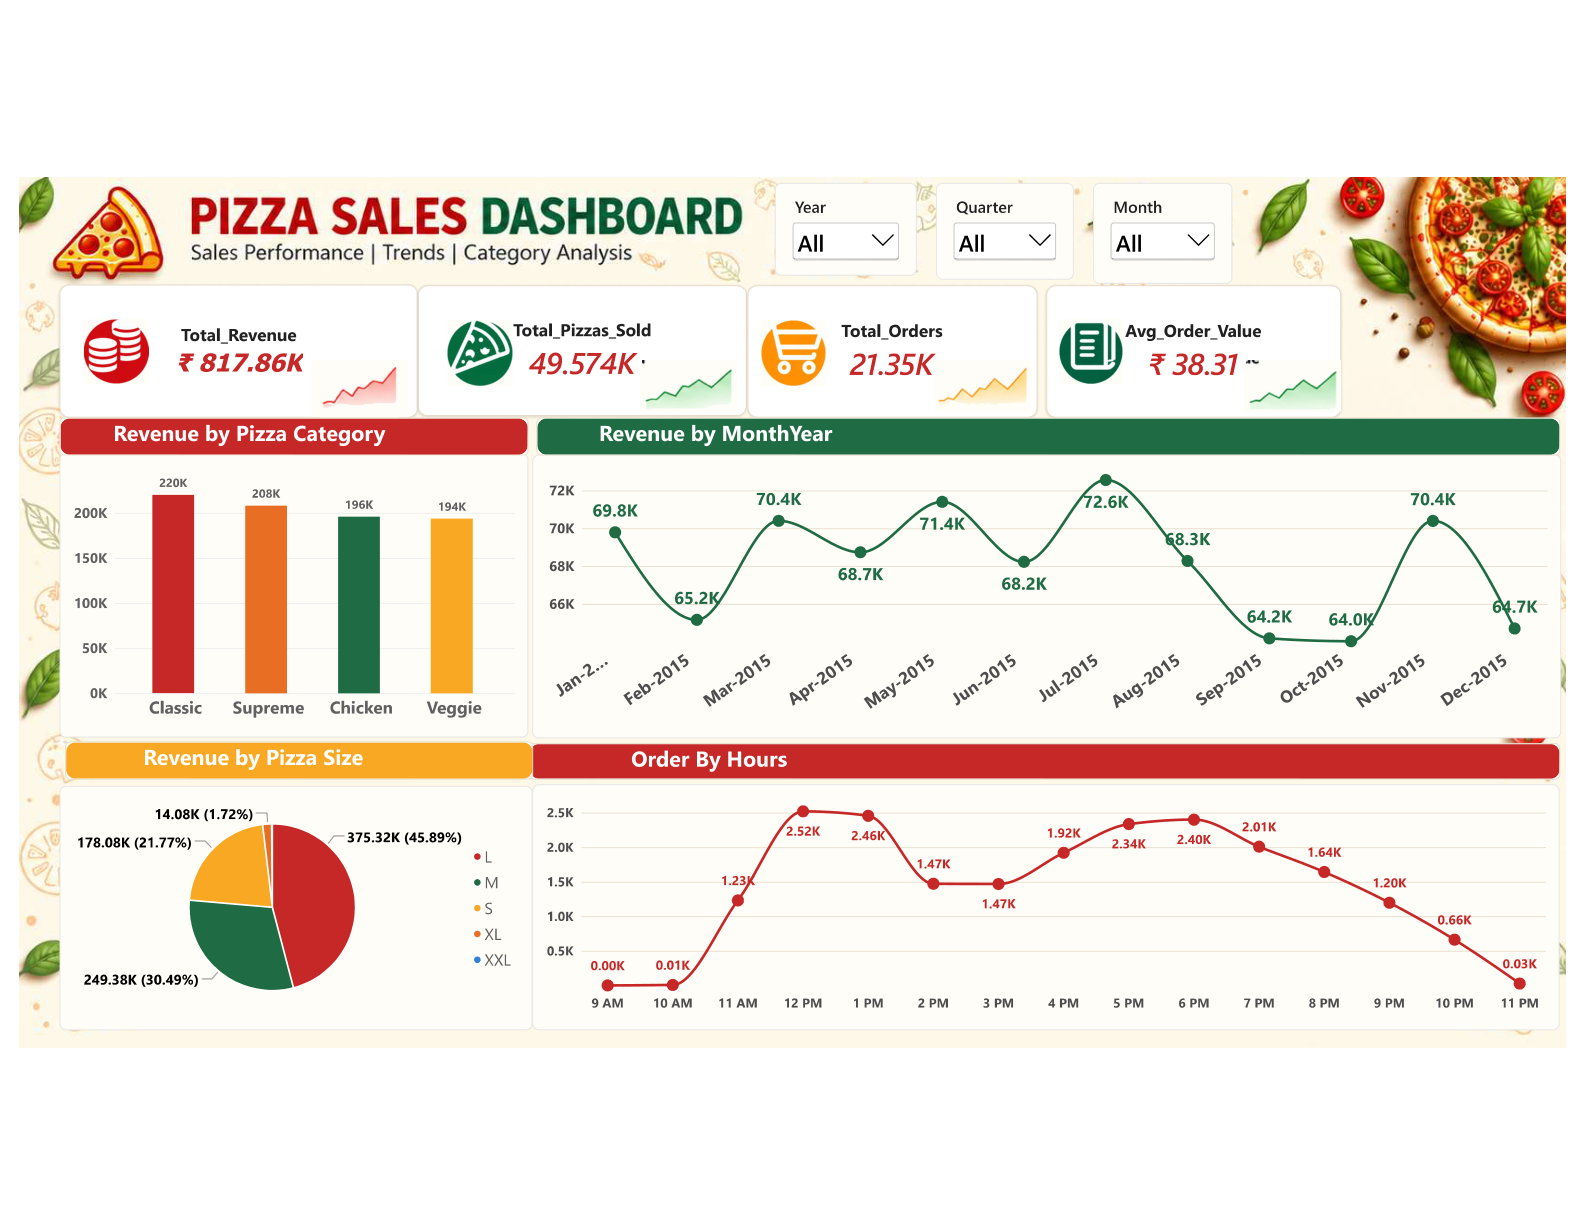

This screenshot's page, from the dashboard's own definition file:
{"tool":"powerbi","page":{"name":"Page 1","canvas":[1920,1080],"ordinal":0},"visuals":[{"type":"cardVisual","fields":{"Data":["working order_details.Total_Revenue"]},"box":[50,133.3,445,165],"z":0},{"type":"cardVisual","fields":{"Data":["working order_details.Total_Pizzas_Sold"]},"box":[494.6,133.8,408.2,162.6],"z":1000},{"type":"cardVisual","title":"Avg_Order_Value","fields":{"Data":["working order_details.Avg_Order_Value"]},"box":[1275.4,133.8,365.8,164.3],"z":2000},{"type":"cardVisual","fields":{"Data":["working order_details.Total_No.Ordered"]},"box":[904.5,133.8,359.1,164.3],"z":3000},{"type":"clusteredColumnChart","title":"Revenue by Pizza Category","fields":{"Category":["working pizza_types.category"],"Y":["working order_details.Total_Revenue"]},"box":[50,341.7,581.7,353.3],"z":4000},{"type":"lineChart","fields":{"Category":["working orders.MonthYear"],"Y":["working order_details.Total_Revenue"]},"box":[637.1,344.3,1276.7,351.7],"z":5000},{"type":"pieChart","fields":{"Category":["working pizzas.size"],"Y":["working order_details.Total_Revenue"]},"box":[50,755,586.7,303.3],"z":6000},{"type":"lineChart","fields":{"Category":["working orders.Hours"],"Y":["working order_details.Total_Orders"]},"box":[636.7,753.3,1275.7,304.3],"z":7000},{"type":"slicer","fields":{"Values":["working orders.date.Variation.Date Hierarchy.Year"]},"box":[938.3,6.8,176.2,115.1],"z":9000},{"type":"slicer","fields":{"Values":["working orders.date.Variation.Date Hierarchy.Month"]},"box":[1333,6.8,172.7,125.6],"z":10000},{"type":"slicer","fields":{"Values":["working orders.date.Variation.Date Hierarchy.Quarter"]},"box":[1138.3,6.8,170.9,120.3],"z":11000},{"type":"image","box":[531.8,177.8,80,80],"z":12000},{"type":"image","box":[79.6,176.1,80,80],"z":13000},{"type":"image","box":[921.4,177.8,80,80],"z":14000},{"type":"image","box":[1290.6,176.1,79.6,79.6],"z":15000},{"type":"image","box":[1521,227,120.3,64.4],"z":16000},{"type":"image","box":[362.5,227,120.3,70],"z":17000},{"type":"image","box":[770.6,227,120.3,64.4],"z":18000},{"type":"image","box":[1134.8,227,120.3,64.4],"z":19000},{"type":"shape","box":[50,298.3,581.7,46.7],"z":20000},{"type":"textbox","box":[77.9,298.1,415,45.7],"z":21000},{"type":"shape","box":[641.7,298.3,1271.7,46.7],"z":22000},{"type":"textbox","box":[656.7,297.7,415,45.7],"z":23000},{"type":"shape","box":[633.3,701.7,1280,45],"z":24000},{"type":"textbox","box":[648.9,701.6,415,45.7],"z":25000},{"type":"shape","box":[56.7,700,581.7,46.7],"z":26000},{"type":"textbox","box":[83,700,415,45.7],"z":27000}]}

Visuals, with their boxes on the page's 1920x1080 design canvas (x1, y1, x2, y2). These are canvas units, not pixel positions in the 1584x1224 screenshot, which may show the page scaled, cropped or inside an application window:
cardVisual - working order_details.Total_Revenue: (50, 133, 495, 298)
cardVisual - working order_details.Total_Pizzas_Sold: (495, 134, 903, 296)
"Avg_Order_Value" cardVisual: (1275, 134, 1641, 298)
cardVisual - working order_details.Total_No.Ordered: (904, 134, 1264, 298)
"Revenue by Pizza Category" clusteredColumnChart: (50, 342, 632, 695)
lineChart - working orders.MonthYear x working order_details.Total_Revenue: (637, 344, 1914, 696)
pieChart - working pizzas.size x working order_details.Total_Revenue: (50, 755, 637, 1058)
lineChart - working orders.Hours x working order_details.Total_Orders: (637, 753, 1912, 1058)
slicer - working orders.date.Variation.Date Hierarchy.Year: (938, 7, 1114, 122)
slicer - working orders.date.Variation.Date Hierarchy.Month: (1333, 7, 1506, 132)
slicer - working orders.date.Variation.Date Hierarchy.Quarter: (1138, 7, 1309, 127)
image: (532, 178, 612, 258)
image: (80, 176, 160, 256)
image: (921, 178, 1001, 258)
image: (1291, 176, 1370, 256)
image: (1521, 227, 1641, 291)
image: (362, 227, 483, 297)
image: (771, 227, 891, 291)
image: (1135, 227, 1255, 291)
shape: (50, 298, 632, 345)
textbox: (78, 298, 493, 344)
shape: (642, 298, 1913, 345)
textbox: (657, 298, 1072, 343)
shape: (633, 702, 1913, 747)
textbox: (649, 702, 1064, 747)
shape: (57, 700, 638, 747)
textbox: (83, 700, 498, 746)
